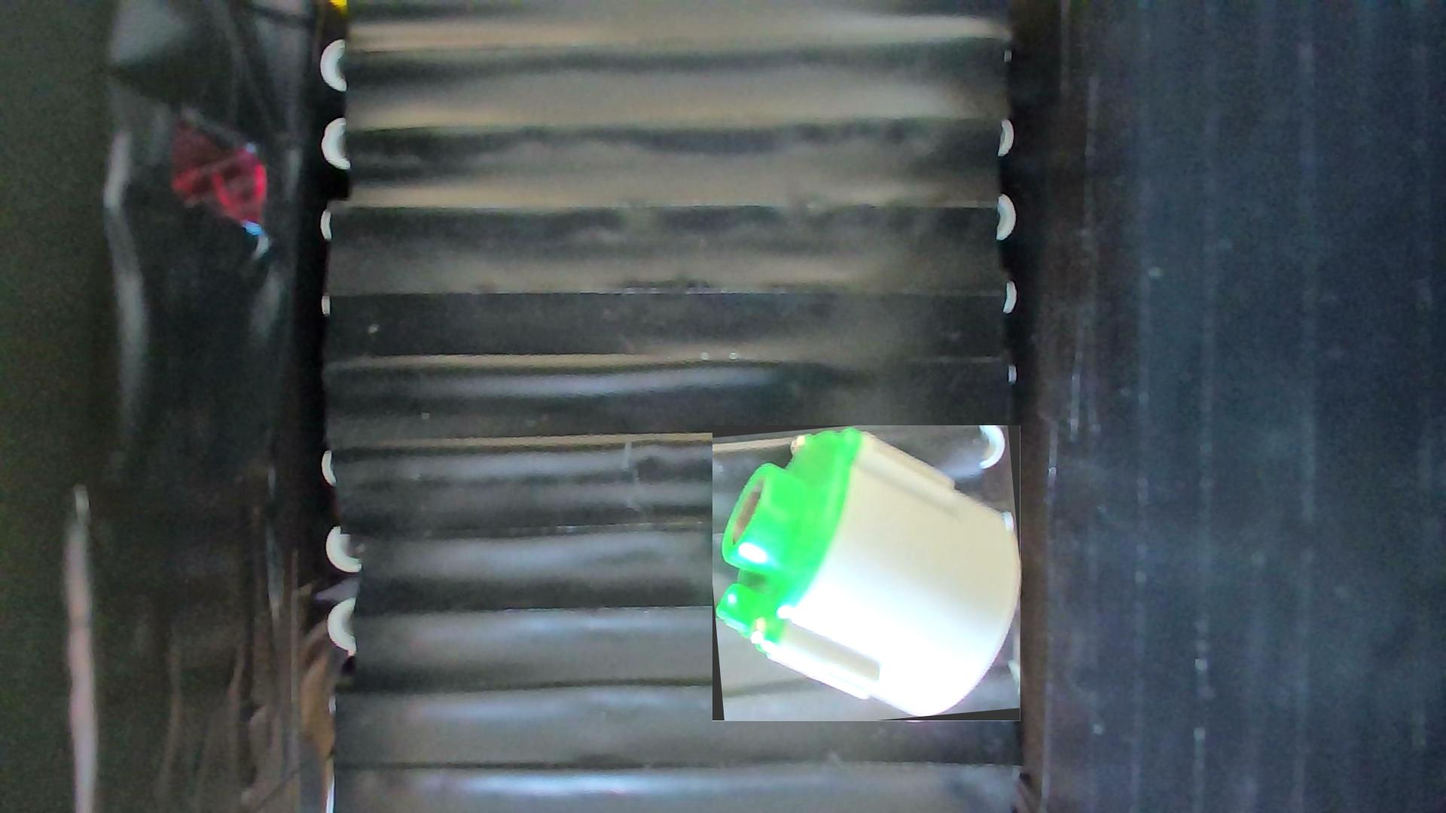cartridge: (713, 426, 1021, 722)
